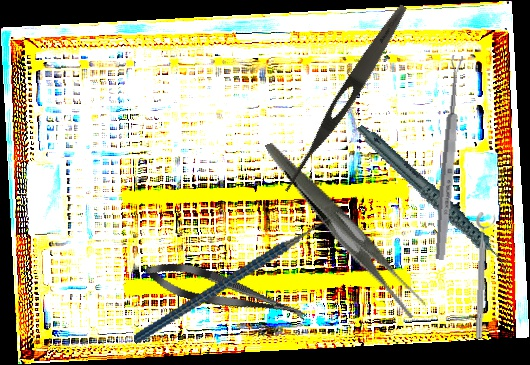Chopper: (114, 200, 353, 344)
Dressing Forceps: (264, 112, 429, 344), (278, 0, 413, 198)
Fixation Ring: (471, 211, 498, 340)
Handpiece: (355, 99, 512, 300)
Micro Scissor: (141, 253, 311, 332)
Surgical Spoon: (433, 54, 465, 261)
